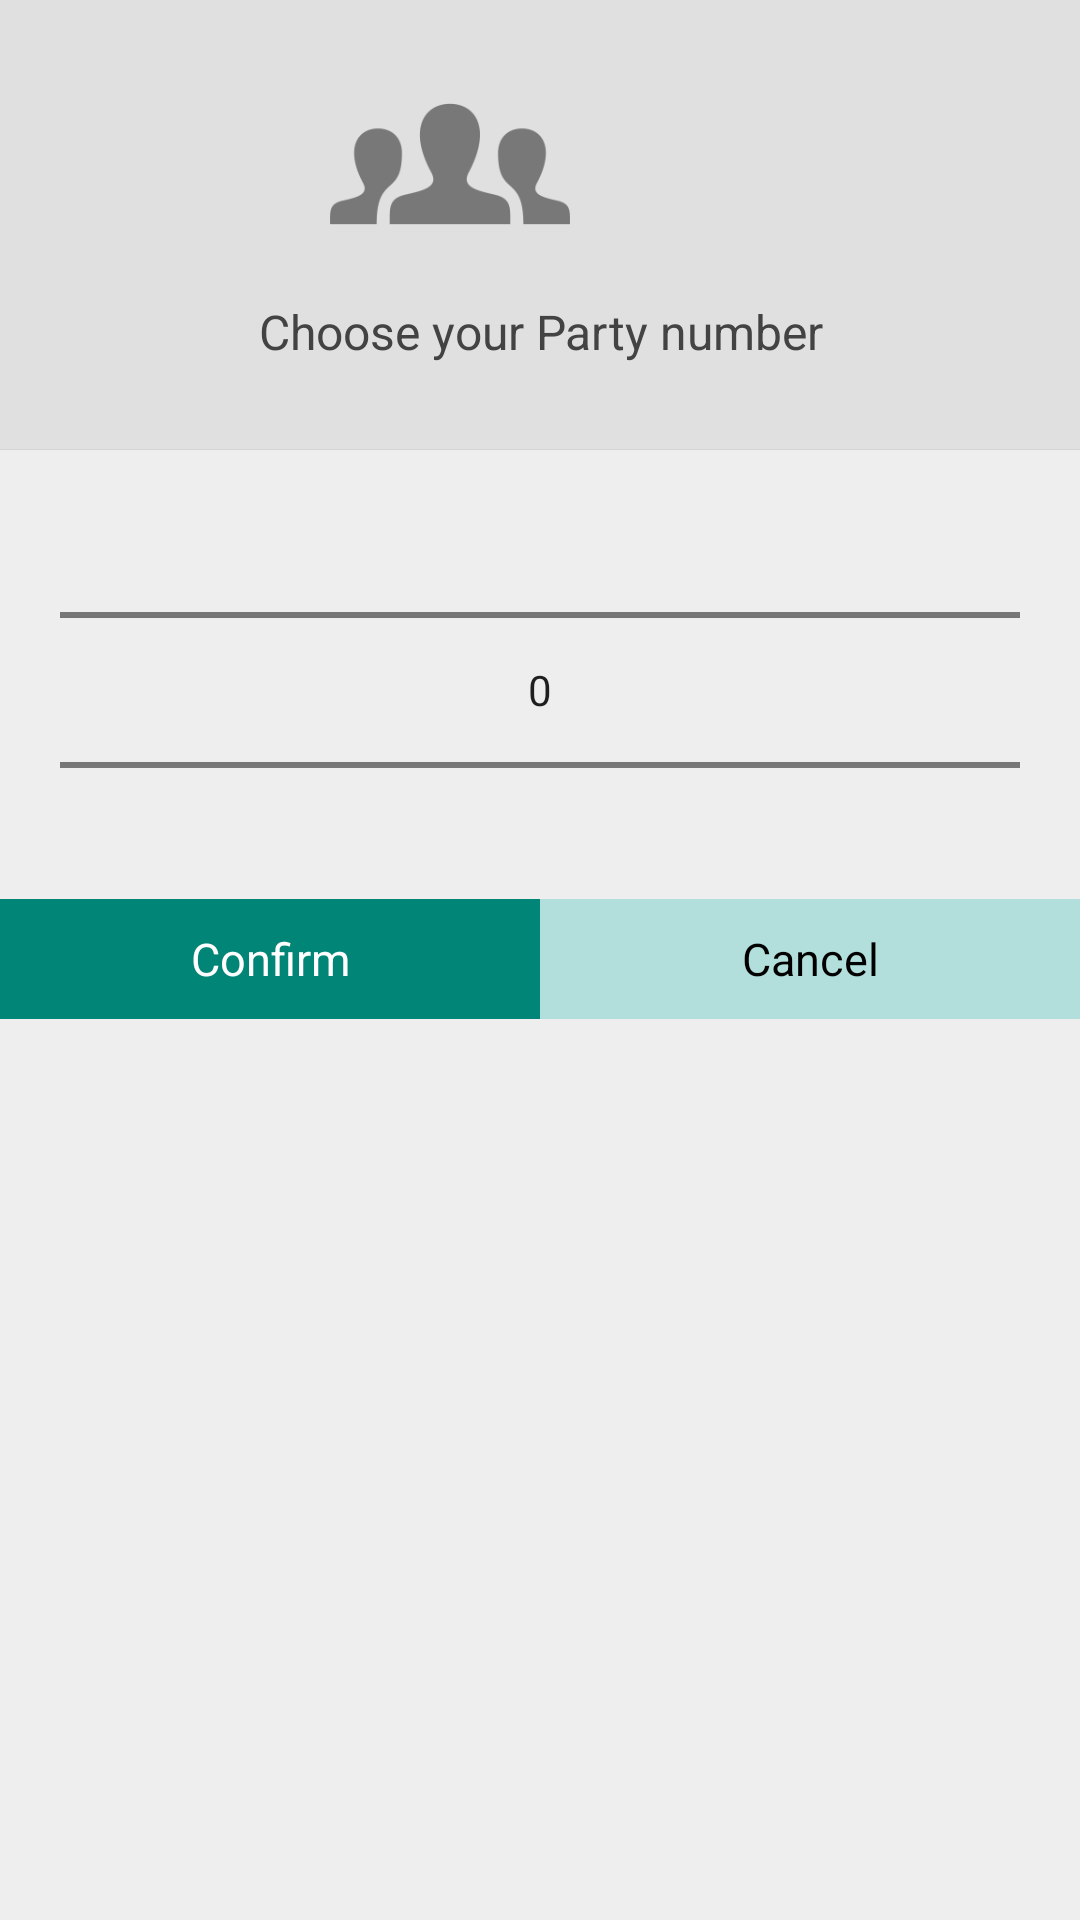

Screen size 1080w x 1920h. Icon name, then its center in pixels as (x=x, y=y):
people: (x=450, y=164)
